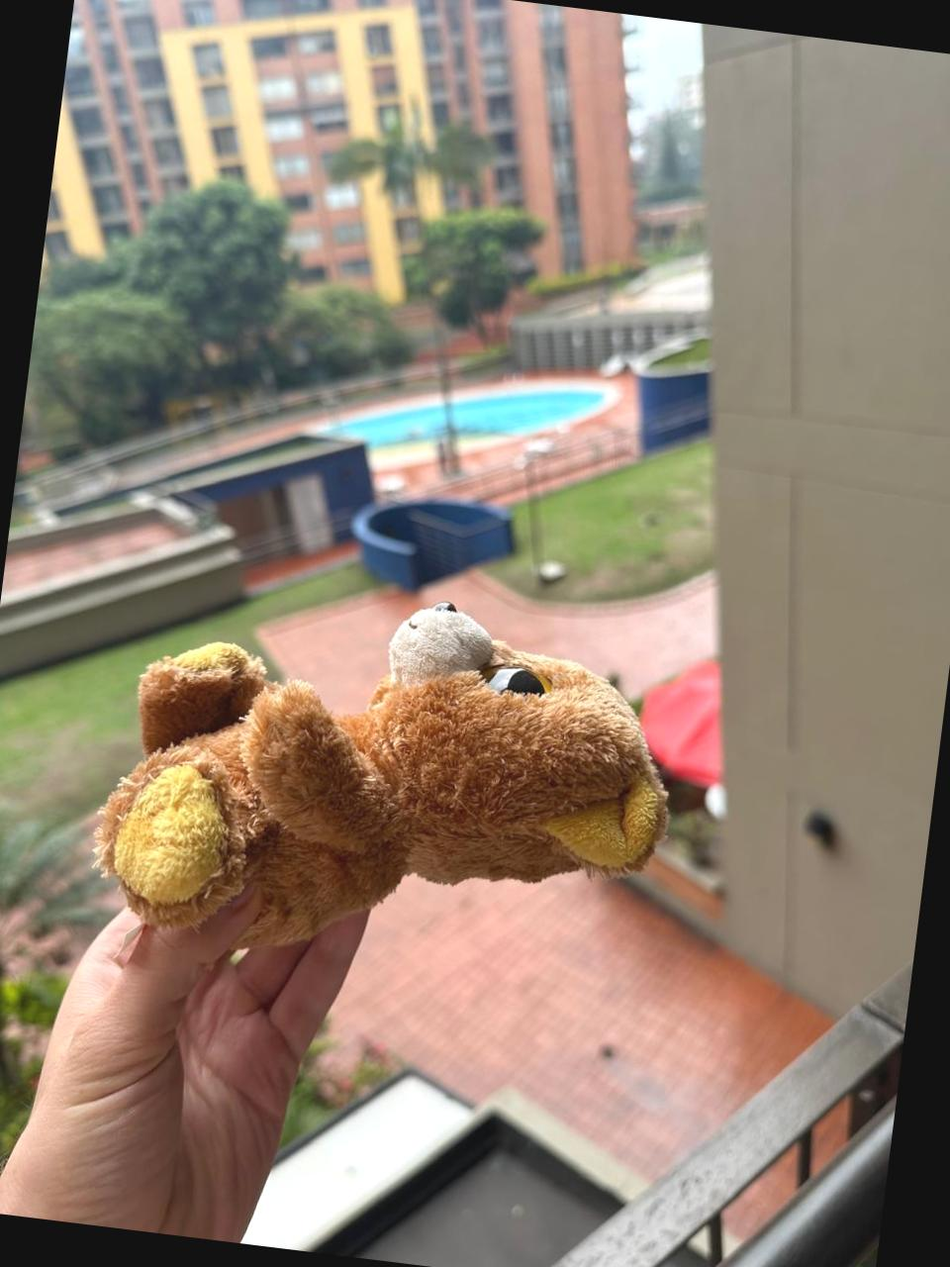peluche_sebastian: (102, 555, 691, 956)
